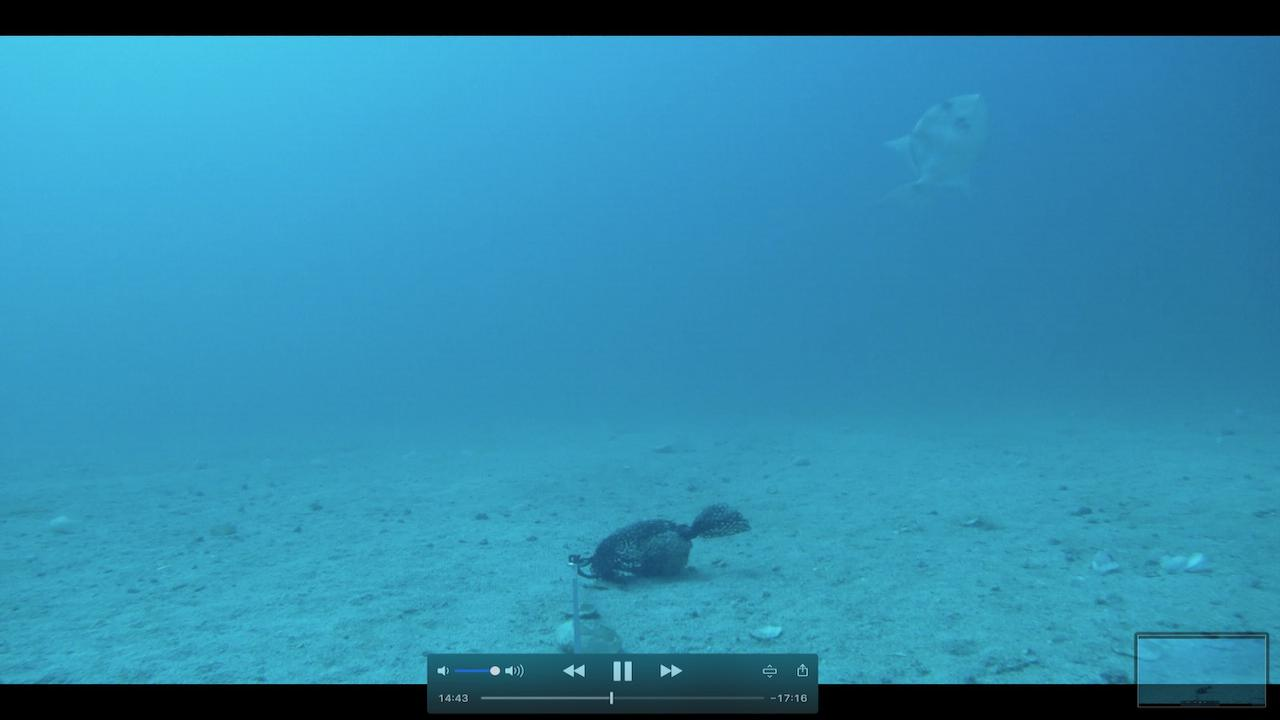balistes: (876, 90, 990, 244)
